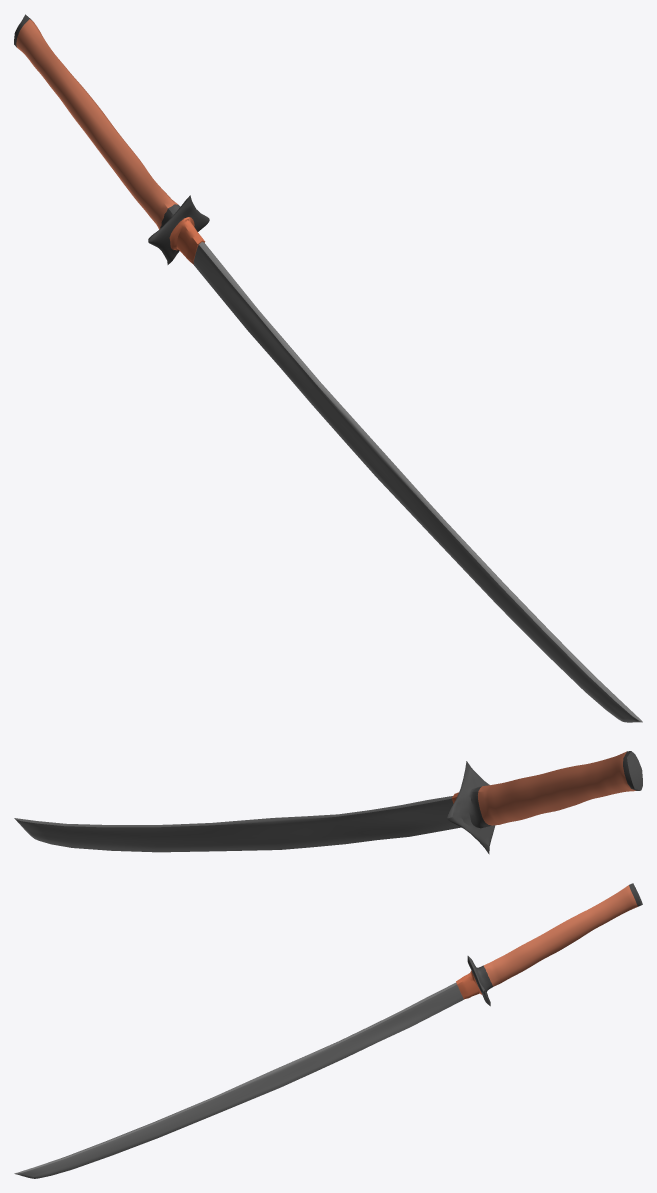
The model's file is Katana.fbx.
The picture shows the model from 3 angles, top to bottom: view 1: azimuth 30°, elevation 25°; view 2: azimuth 210°, elevation 25°; view 3: azimuth 270°, elevation 25°; orthographic projection. The views are drawn at different scales.
Visible parts, largest first — view 1: Cube; view 2: Cube; view 3: Cube.
Part boxes in pixels (bbox=[...]): Cube: bbox=[14, 14, 642, 722]; Cube: bbox=[14, 751, 642, 854]; Cube: bbox=[14, 883, 642, 1178].
Size of the model in its own units: 75.02 by 198 by 443.
